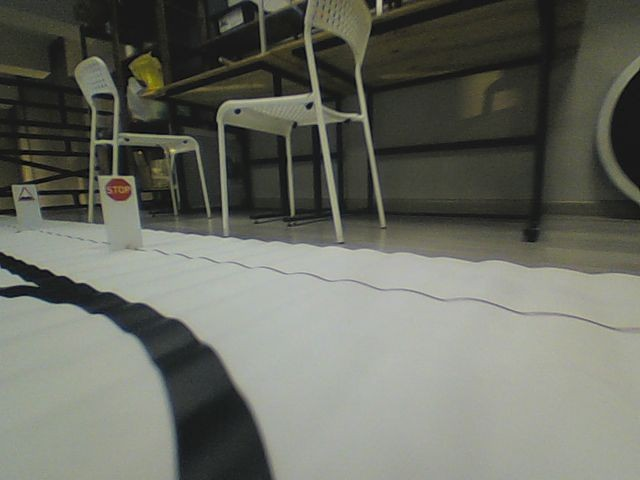Nerov: (16, 185, 35, 202)
Stop: (105, 177, 132, 201)
